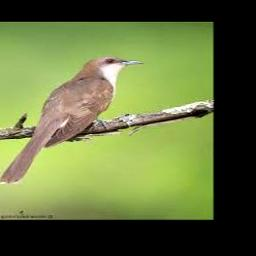Cuckoo: (0, 57, 144, 183)
